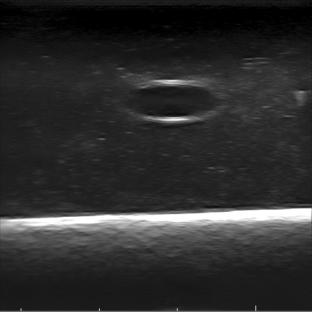vessel: (125, 79, 224, 123)
